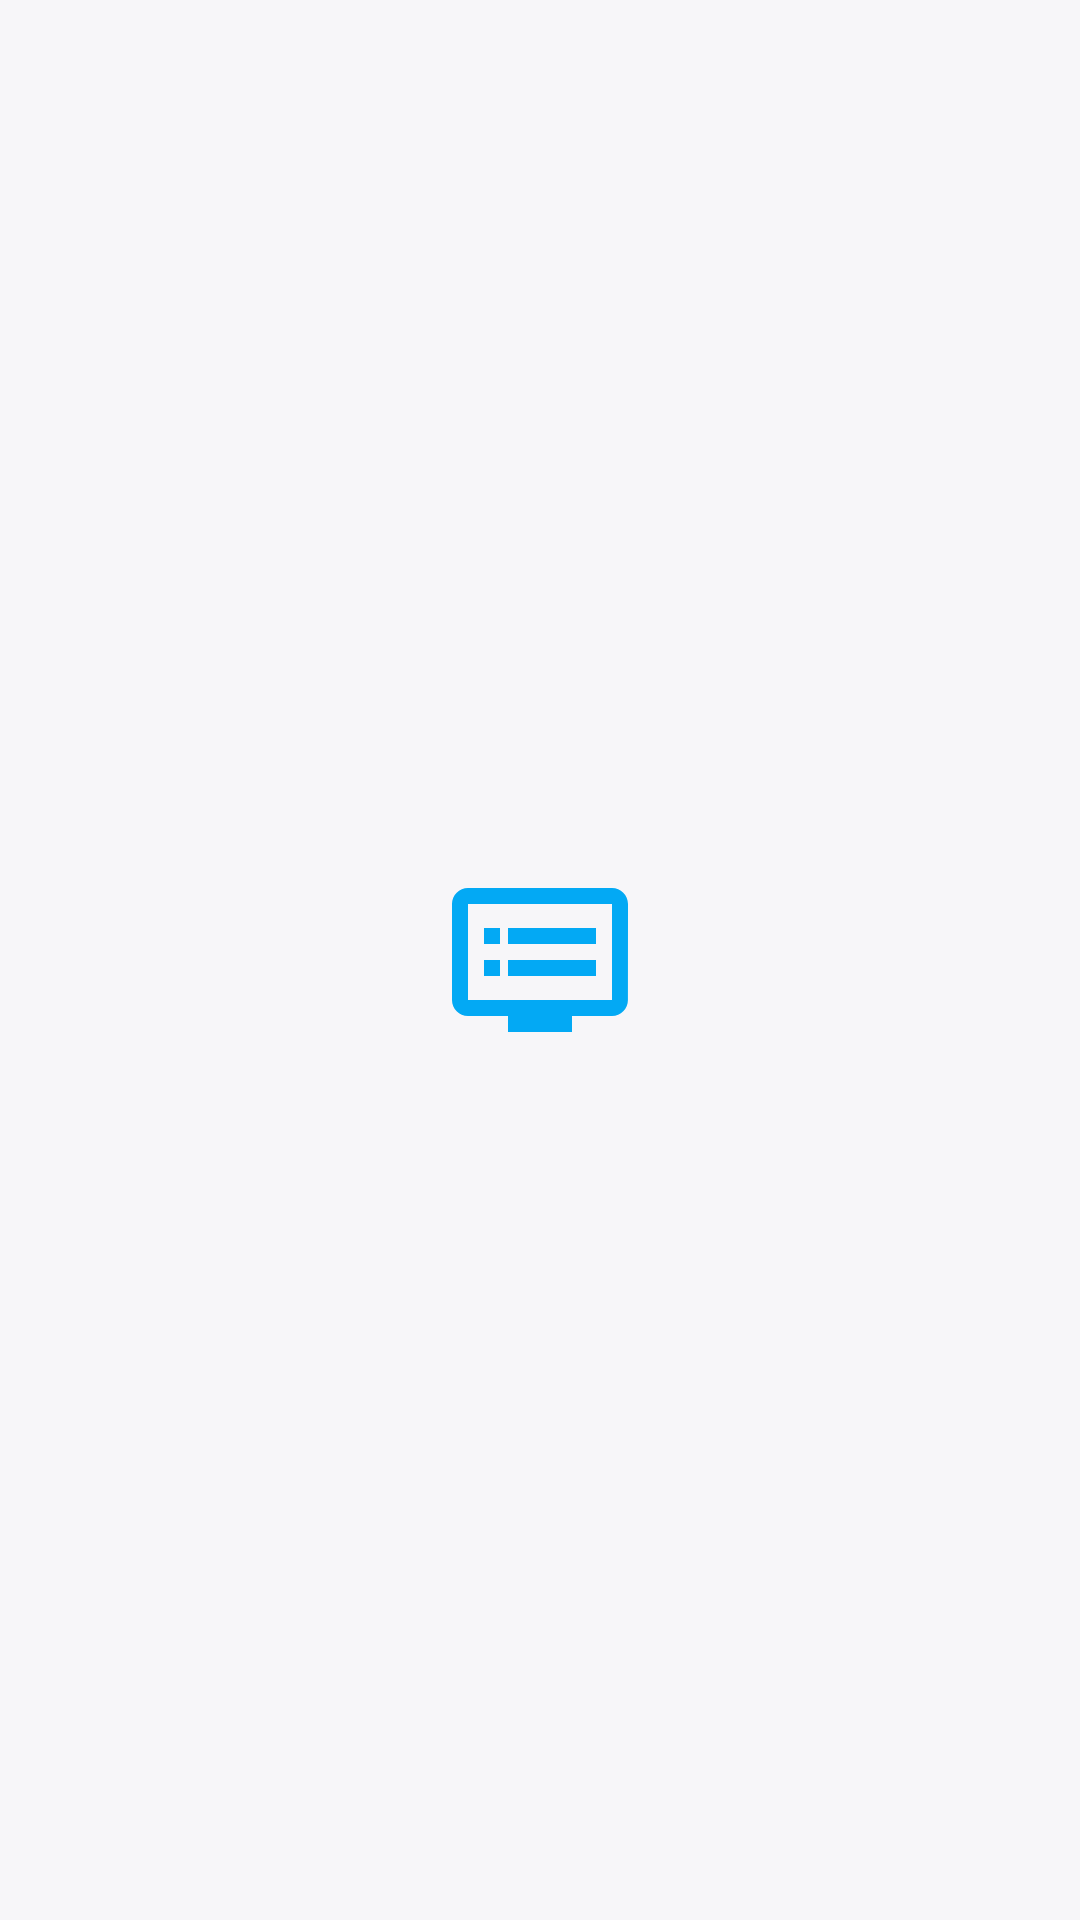

Locate icon controls on the screen. Image size 1080x1920, boxes as [left=x1, top=y1, right=x2, bottom=y2].
news: [left=452, top=888, right=628, bottom=1032]
